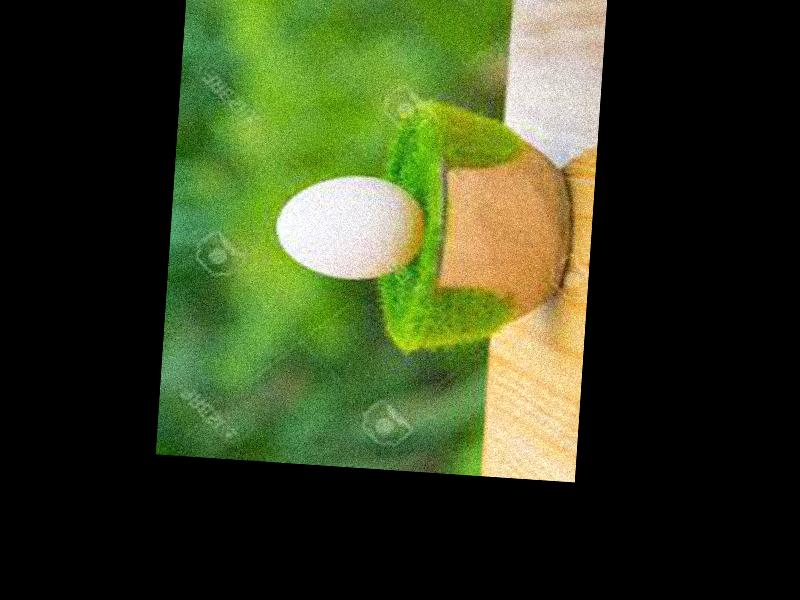Eggs: (276, 168, 427, 281)
